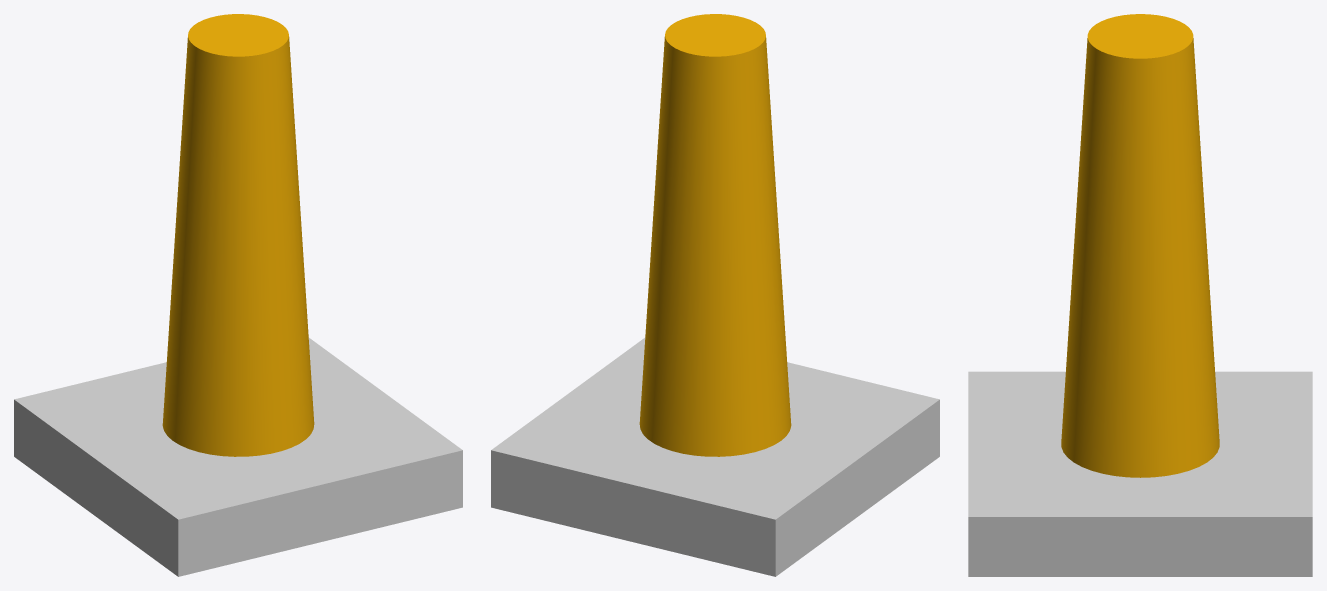
File: Post.dae
3 renders of one model, left to right at view 1: azimuth 30°, elevation 25°; view 2: azimuth 150°, elevation 25°; view 3: azimuth 270°, elevation 25°, orthographic. The views are drawn at different scales.
Visible parts, largest first — view 1: ID2; view 2: ID2; view 3: ID2.
Part boxes in pixels (box(x1,y1,x2,y2)): ID2: box(14, 14, 462, 576); ID2: box(491, 14, 939, 576); ID2: box(968, 14, 1312, 576).
Bounding box in the file's own units: 0.13 × 0.13 × 0.195.
